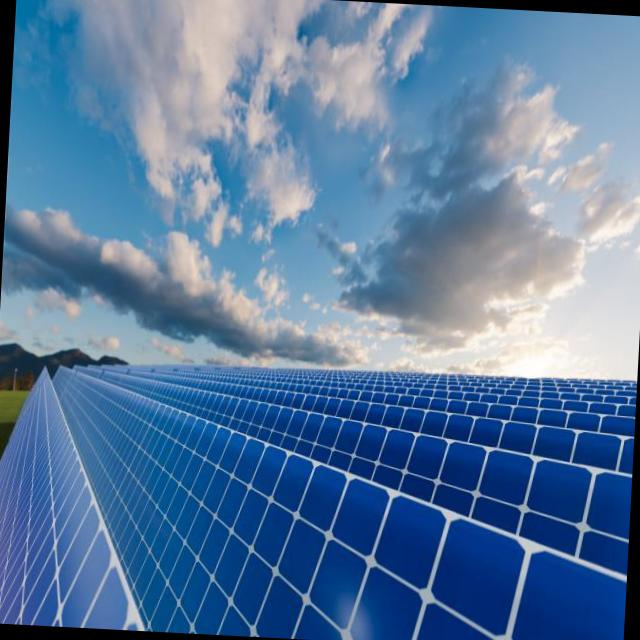no faulty: (0, 365, 623, 640), (71, 367, 632, 580), (115, 371, 632, 477)
